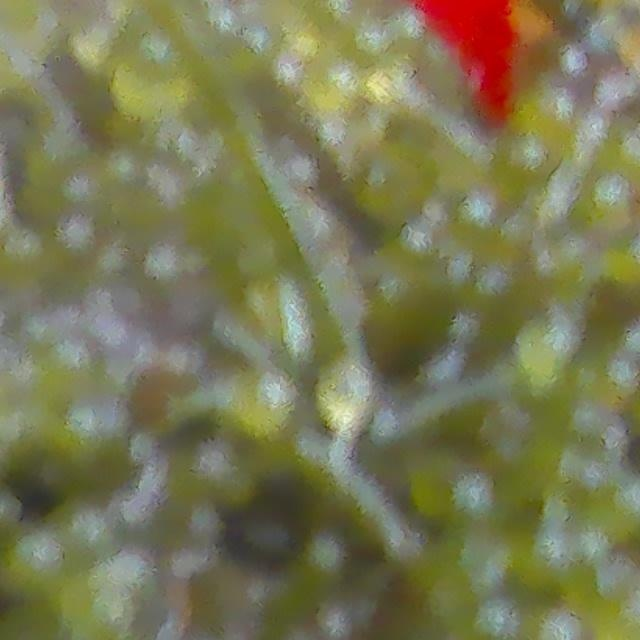SeaGrape: (0, 527, 68, 602)
